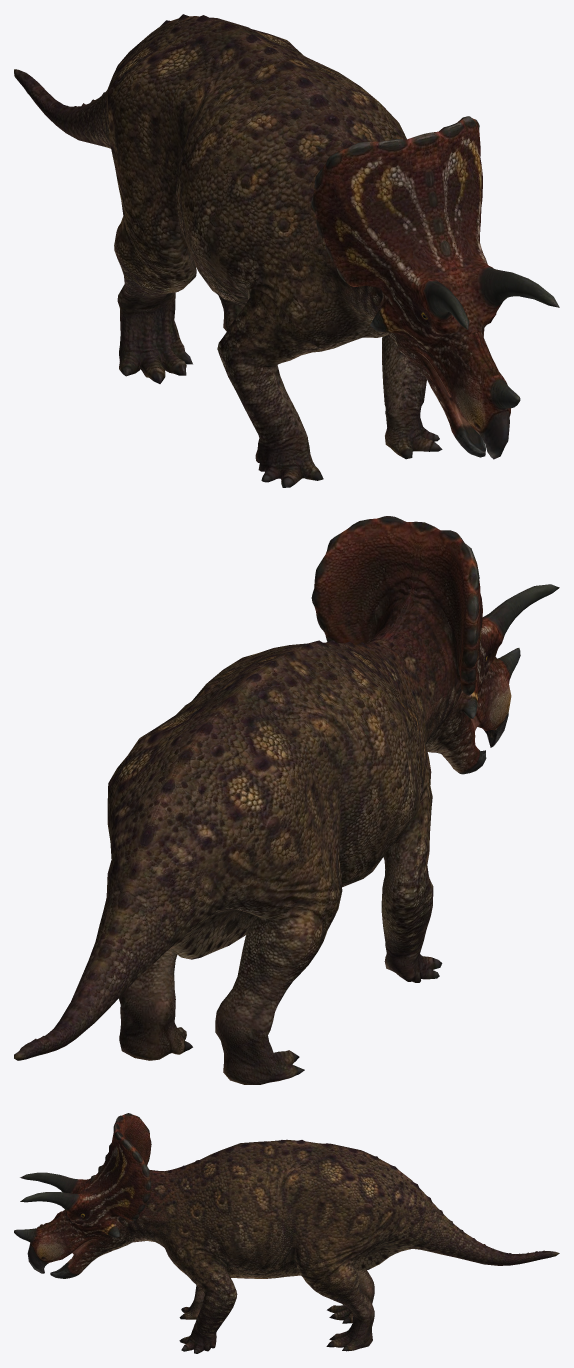
File: Triceratops.glb
3 renders of one model, top to bottom at view 1: azimuth 30°, elevation 25°; view 2: azimuth 150°, elevation 25°; view 3: azimuth 270°, elevation 25°, orthographic. The views are drawn at different scales.
Parts seen in each view (by area): view 1: Triceratops; view 2: Triceratops; view 3: Triceratops.
Part boxes in pixels (box(x1,y1,x2,y2)): Triceratops: box(14, 14, 559, 487); Triceratops: box(14, 516, 559, 1084); Triceratops: box(14, 1113, 559, 1353).
Size of the model in its own units: 2.74 by 4.75 by 11.36.
Materials: 1 (1 with a texture image).
